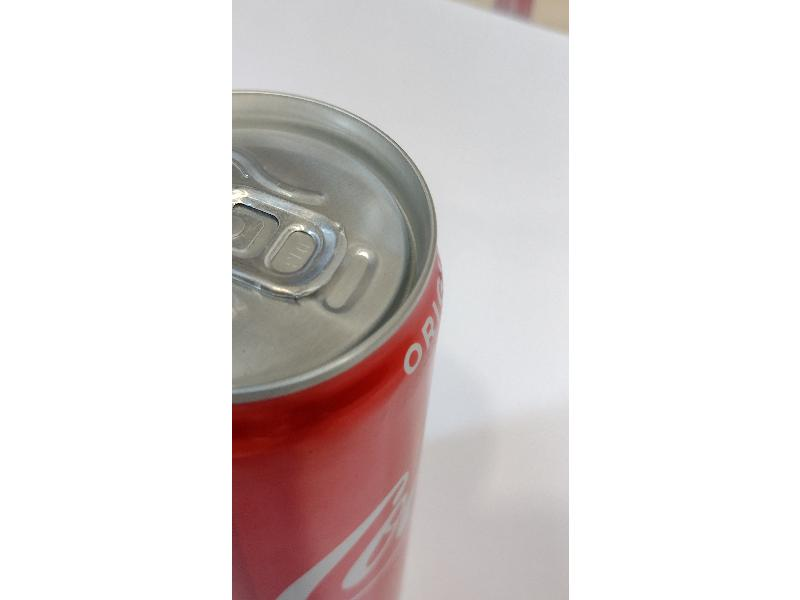can: (231, 75, 442, 600)
